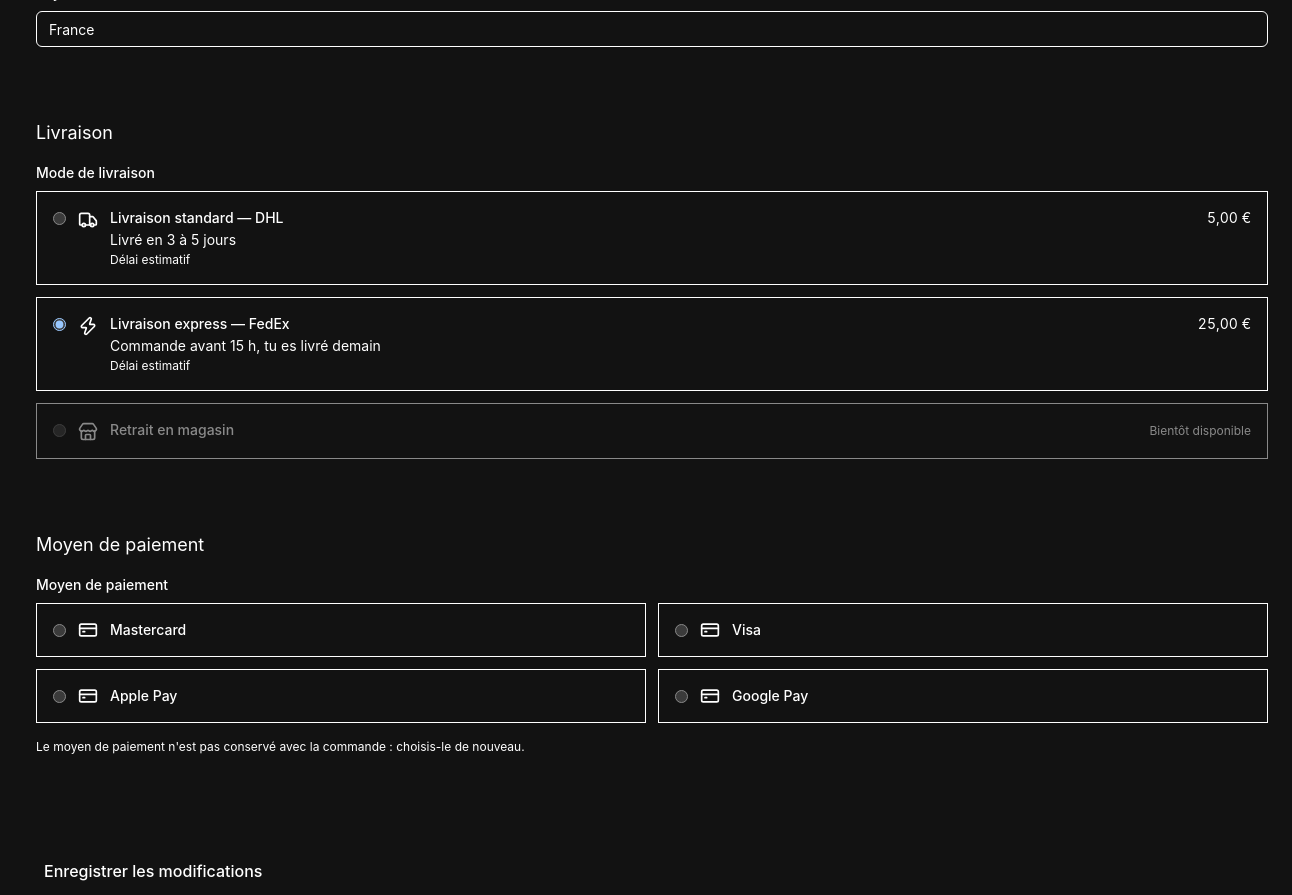
it: OrderEditForm › flags the increased line on a stock refusal and keeps the other changes
(page scrolled)
Click the radio button labelled "Visa" at (682,630), box [675, 624, 688, 636]
(page scrolled)
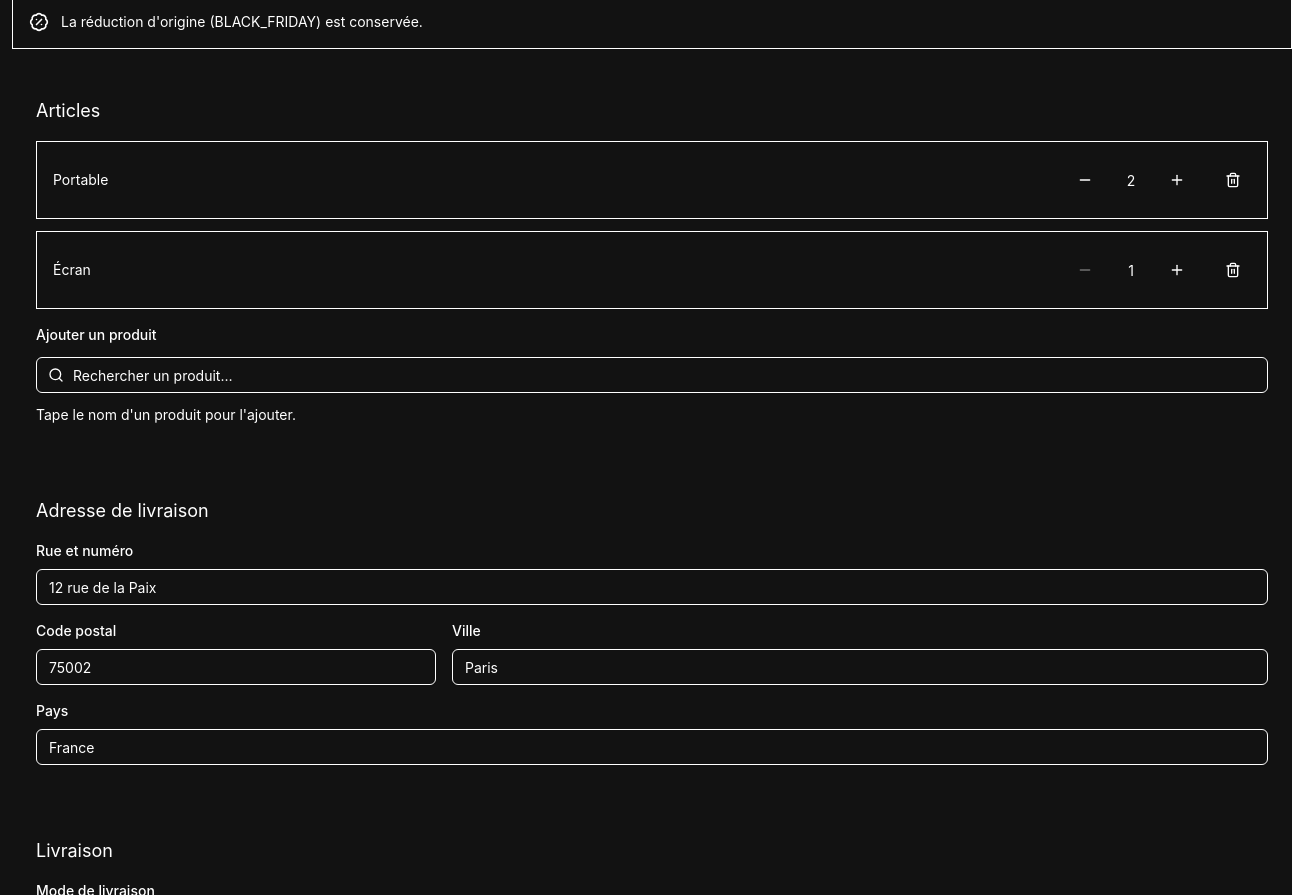
Click the button named "Ajouter une unité" in the row of "Écran" at (1177,270), box [1159, 252, 1195, 288]
(page scrolled)
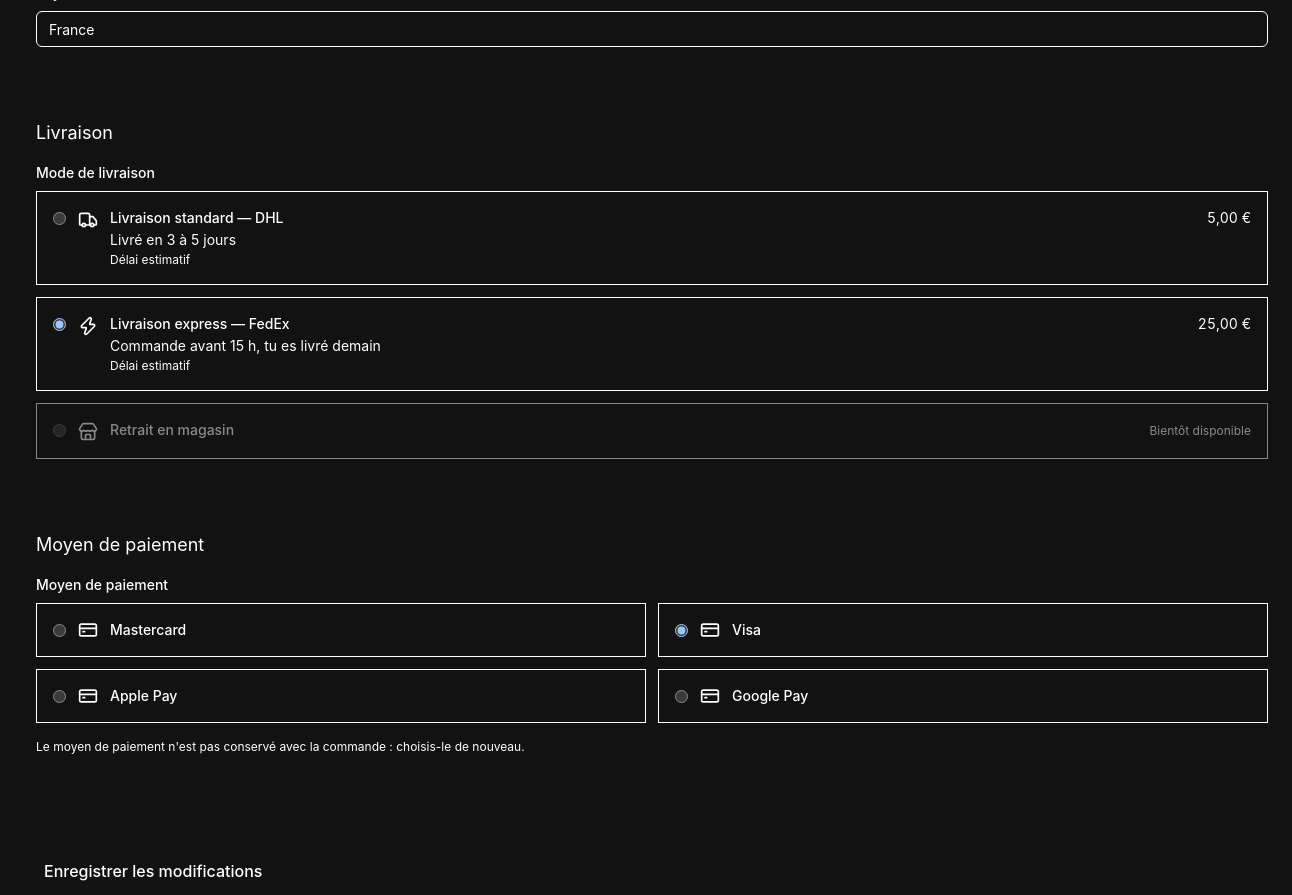
Click the button "Enregistrer les modifications" at (153,871), box [12, 847, 294, 894]
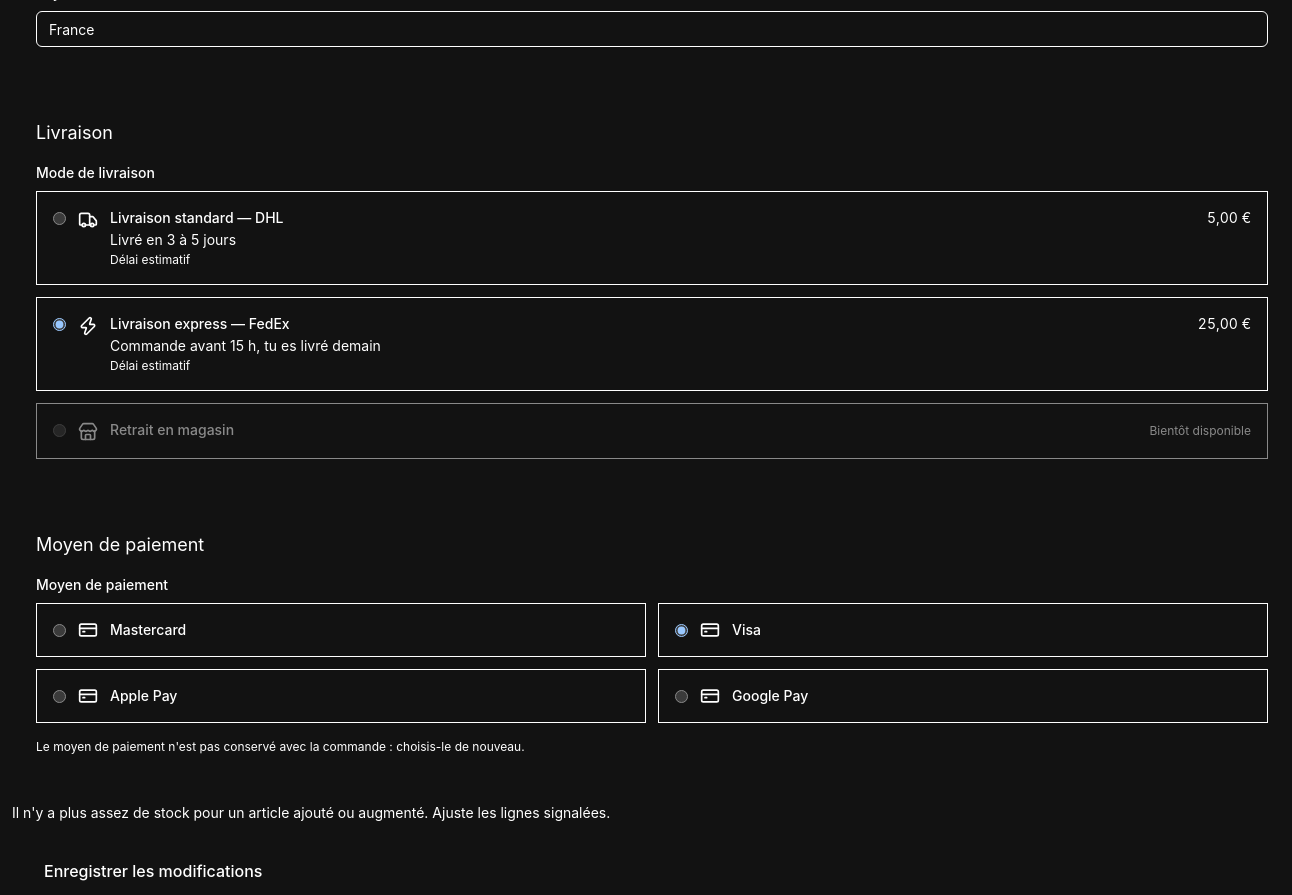
Now the radio button labelled "Visa" is checked, box [675, 624, 688, 636]
Now the message shows "plus assez de stock", box [12, 804, 610, 821]
